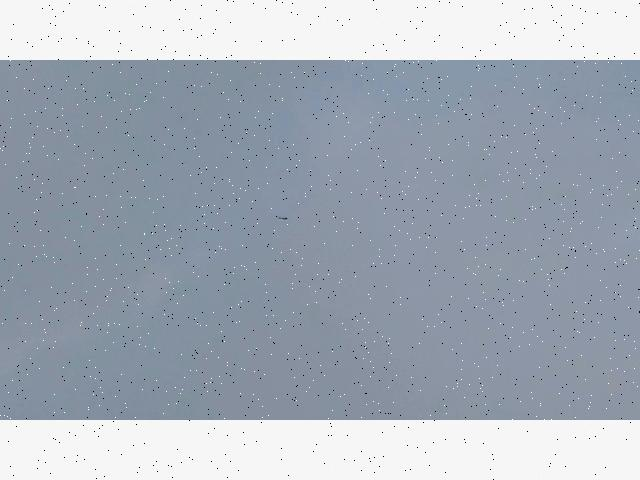Anti-Drone: (277, 215, 289, 221)
